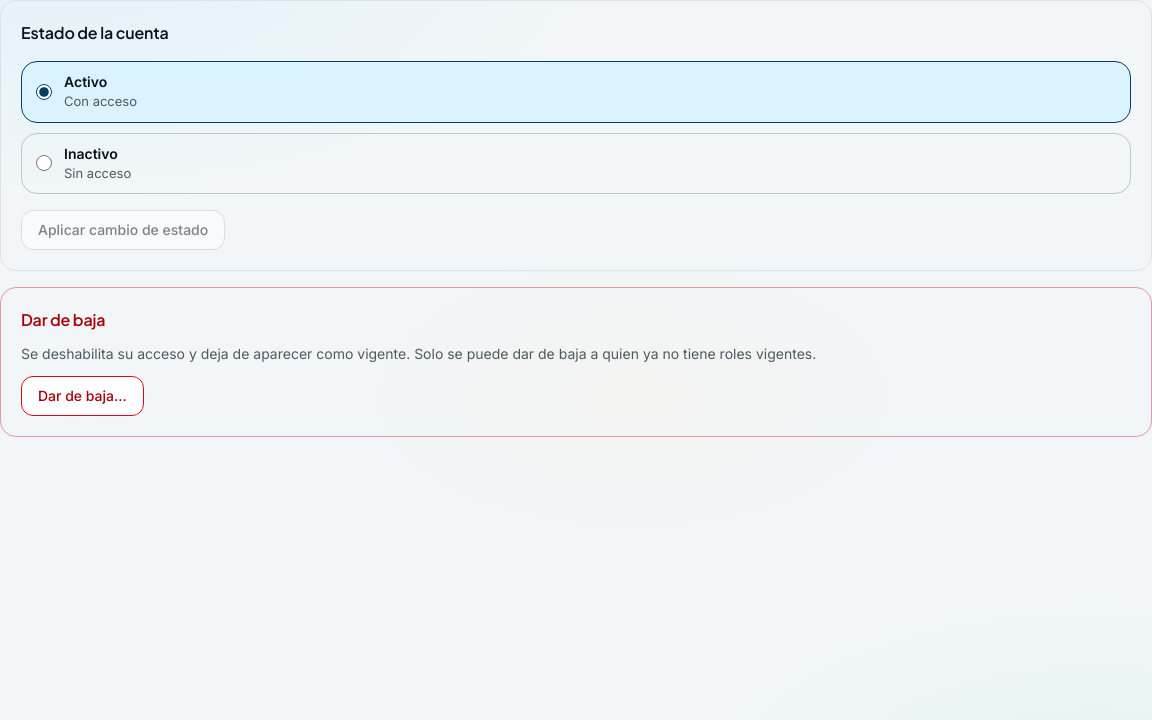
Test case: EditarUsuarioAcceso › "Dar de baja…" abre la confirmación y confirmar da de baja al usuario, avisa y cierra el panel
The image size is (1152, 720).
Click the button "Dar de baja…".
click(82, 396)  # box [21,376,144,416]
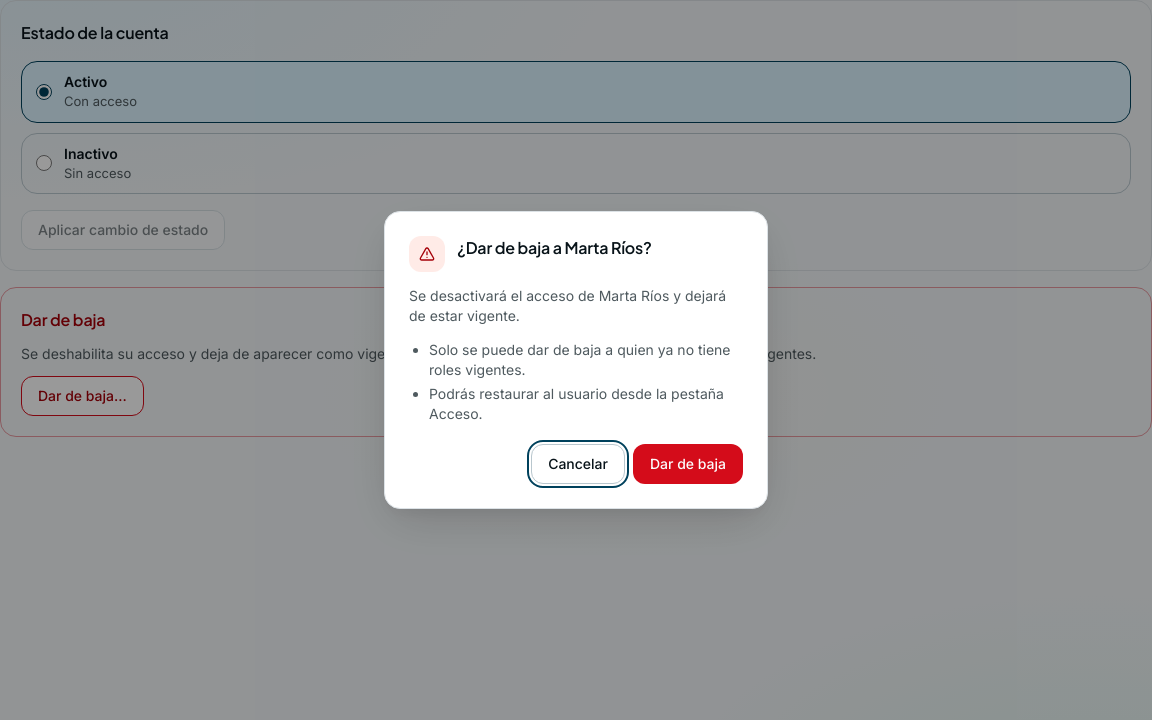
Click the button "Dar de baja".
click(688, 464)  # box [633,444,743,484]
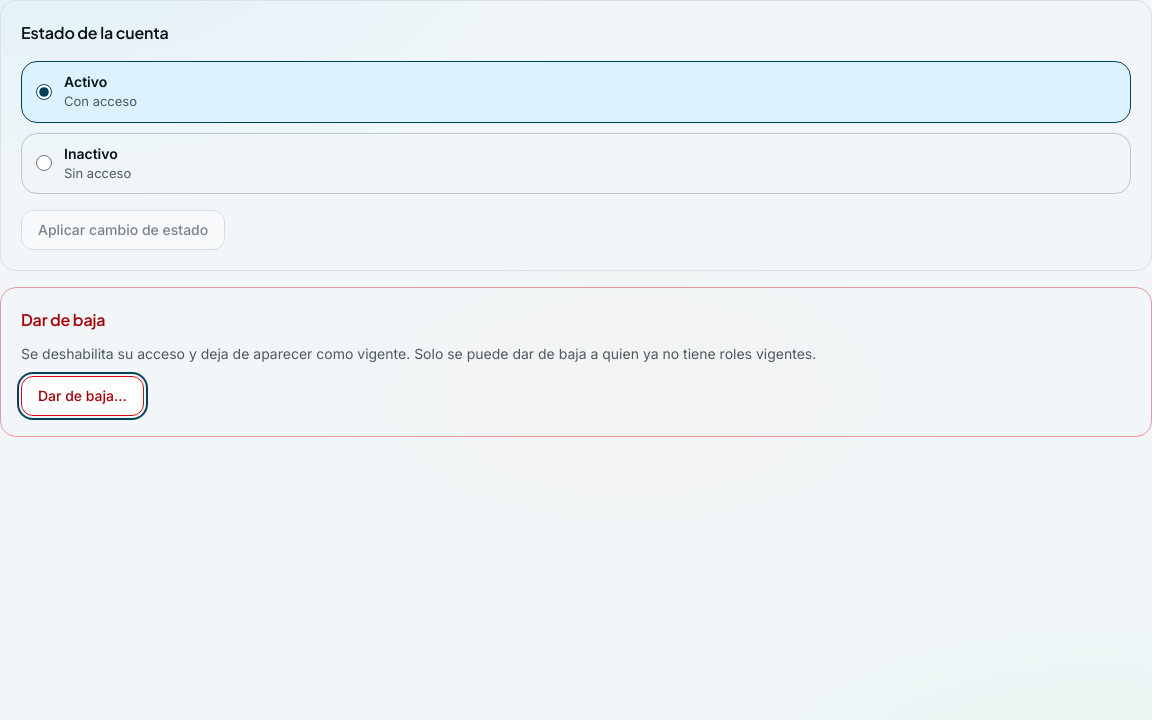
Now the dialog is gone
